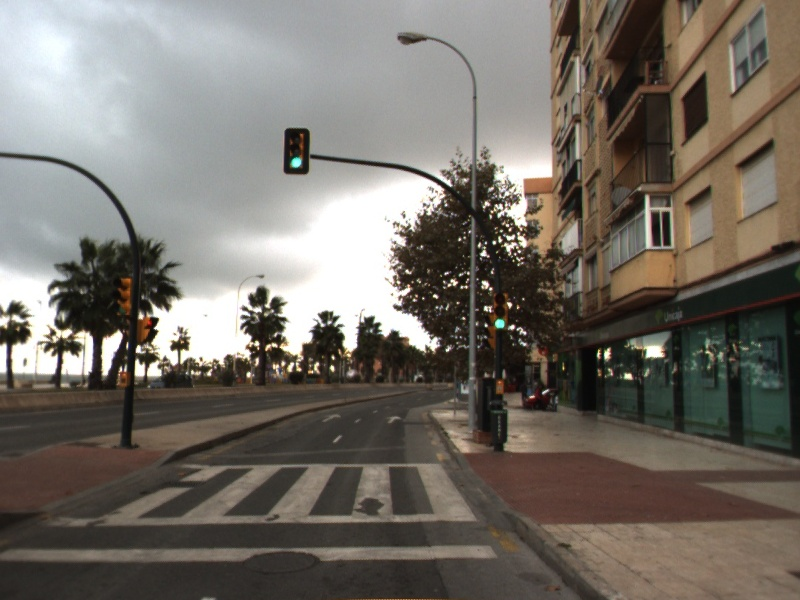STRAIGHT: (319, 412, 343, 423), (383, 414, 404, 425)
